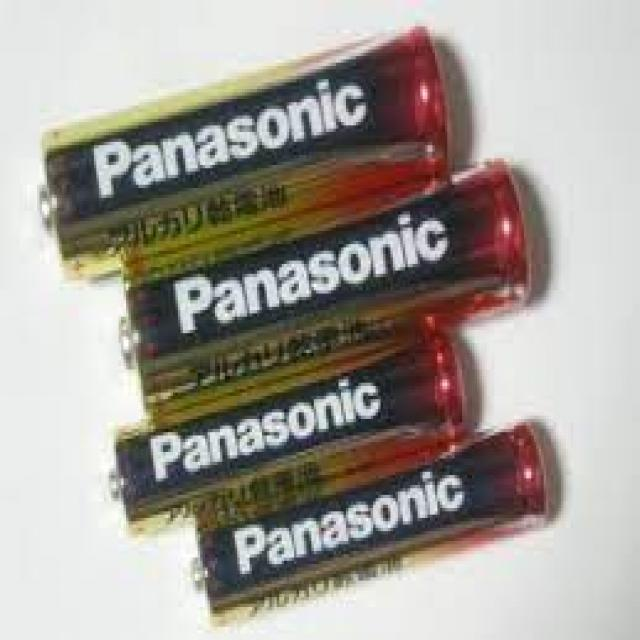hazardous waste: (27, 18, 496, 284), (110, 151, 542, 421), (190, 408, 560, 628), (94, 328, 478, 524)
